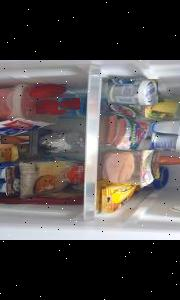Huevos: (0, 136, 28, 144), (0, 140, 17, 149)
Queso: (16, 160, 81, 199)
Salchichas: (105, 116, 150, 150), (116, 103, 141, 116)
Tomate: (28, 84, 66, 99), (35, 100, 65, 114), (57, 98, 79, 110)
Yogur: (0, 165, 26, 178)
